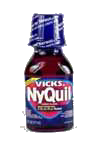grozi_63: (23, 13, 73, 132)
